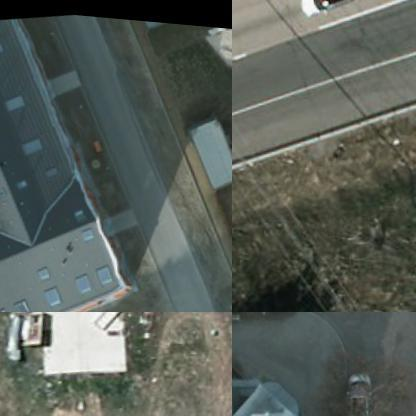car: (344, 362, 391, 415), (293, 0, 363, 24)
